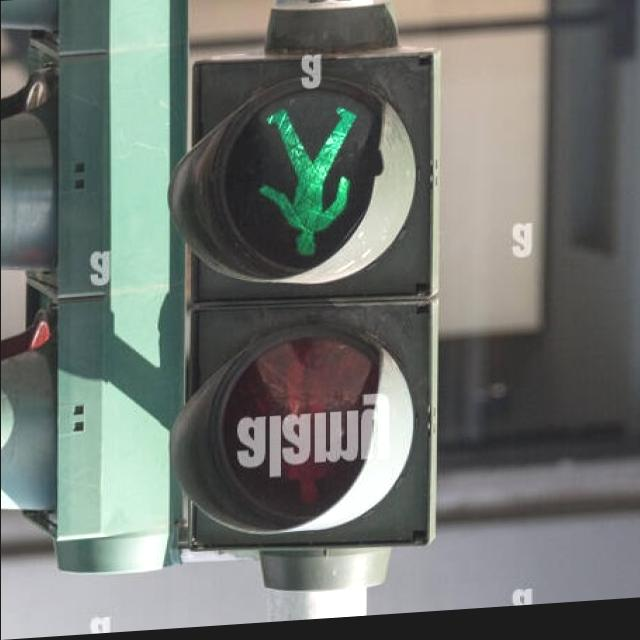green_light: (249, 99, 366, 271)
